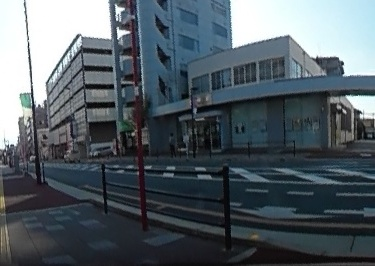person: (167, 130, 178, 158)
